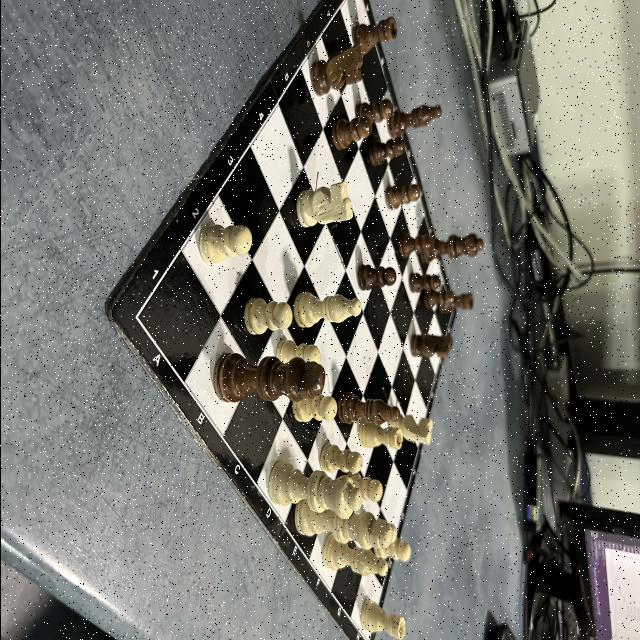Black-Bishop: (336, 392, 398, 424), (389, 103, 441, 140)
Black-King: (213, 352, 325, 400)
Black-Knight: (307, 48, 363, 94), (410, 334, 452, 358)
Black-Pawn: (329, 118, 372, 150), (356, 265, 396, 290), (369, 138, 406, 165), (385, 183, 419, 210), (356, 100, 392, 124), (398, 234, 432, 256), (410, 274, 440, 292), (423, 292, 453, 310)
Black-Queen: (421, 234, 483, 262)
Black-Rook: (352, 17, 398, 58), (440, 294, 472, 312)
White-Bishop: (323, 536, 389, 576), (293, 292, 361, 327)
White-King: (296, 504, 392, 550)
White-Knight: (296, 182, 354, 230), (391, 412, 434, 444)
White-Pawn: (199, 224, 252, 262), (242, 296, 292, 335), (335, 472, 383, 502), (318, 444, 362, 474), (276, 340, 322, 368), (290, 395, 336, 423), (374, 541, 414, 562)
White-Queen: (268, 462, 362, 520)
White-Rook: (360, 598, 404, 638), (357, 421, 402, 448)
